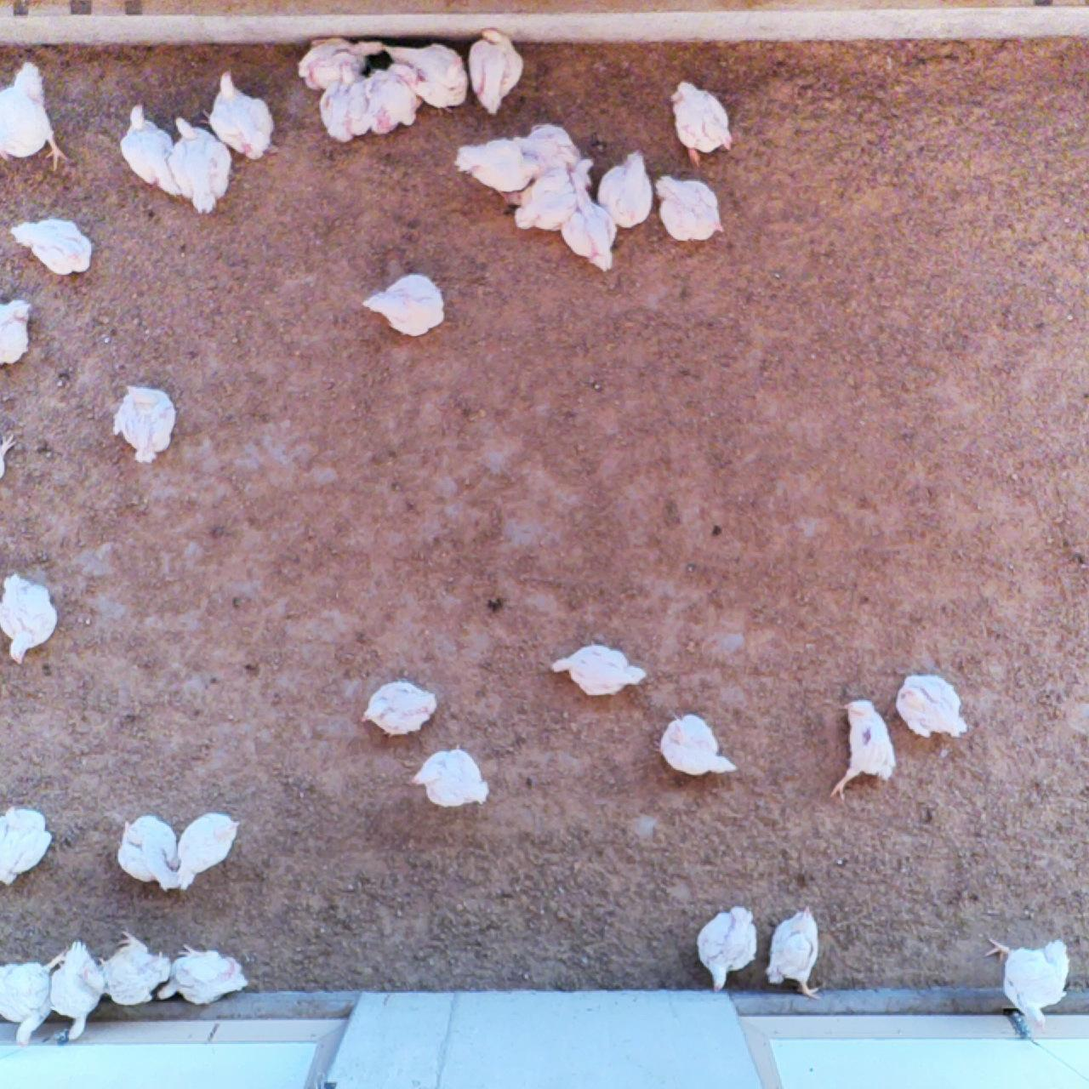chicken: (989, 925, 1082, 1035), (833, 690, 899, 805), (1, 60, 71, 167), (168, 111, 235, 218), (113, 101, 180, 200), (670, 80, 739, 176), (93, 927, 169, 1012), (165, 943, 257, 1012), (689, 898, 761, 986), (208, 65, 273, 161), (660, 714, 743, 788), (504, 159, 596, 225), (556, 187, 623, 277), (363, 278, 456, 341), (386, 36, 470, 105), (357, 677, 447, 740), (890, 675, 970, 745), (550, 640, 648, 697), (115, 813, 182, 895), (591, 150, 655, 233), (1, 575, 59, 665), (465, 26, 524, 113), (54, 939, 108, 1034), (179, 811, 244, 889), (109, 387, 180, 457), (660, 174, 727, 248), (767, 910, 825, 995), (534, 120, 604, 190), (461, 140, 544, 197), (293, 36, 387, 86), (1, 807, 56, 892), (12, 215, 89, 275), (1, 958, 52, 1043), (318, 73, 373, 145), (421, 755, 487, 812), (368, 66, 413, 128), (1, 298, 37, 367)
